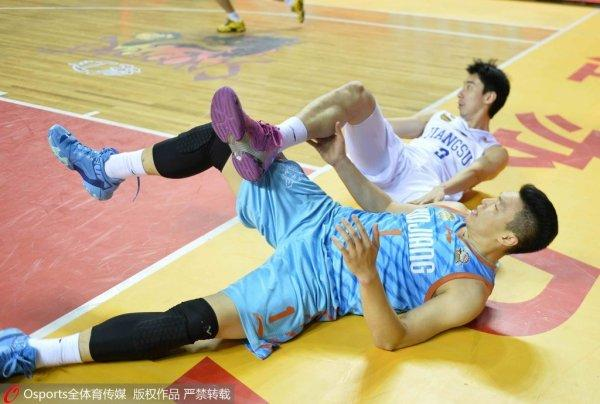down: (1, 116, 559, 379), (206, 57, 514, 219)
